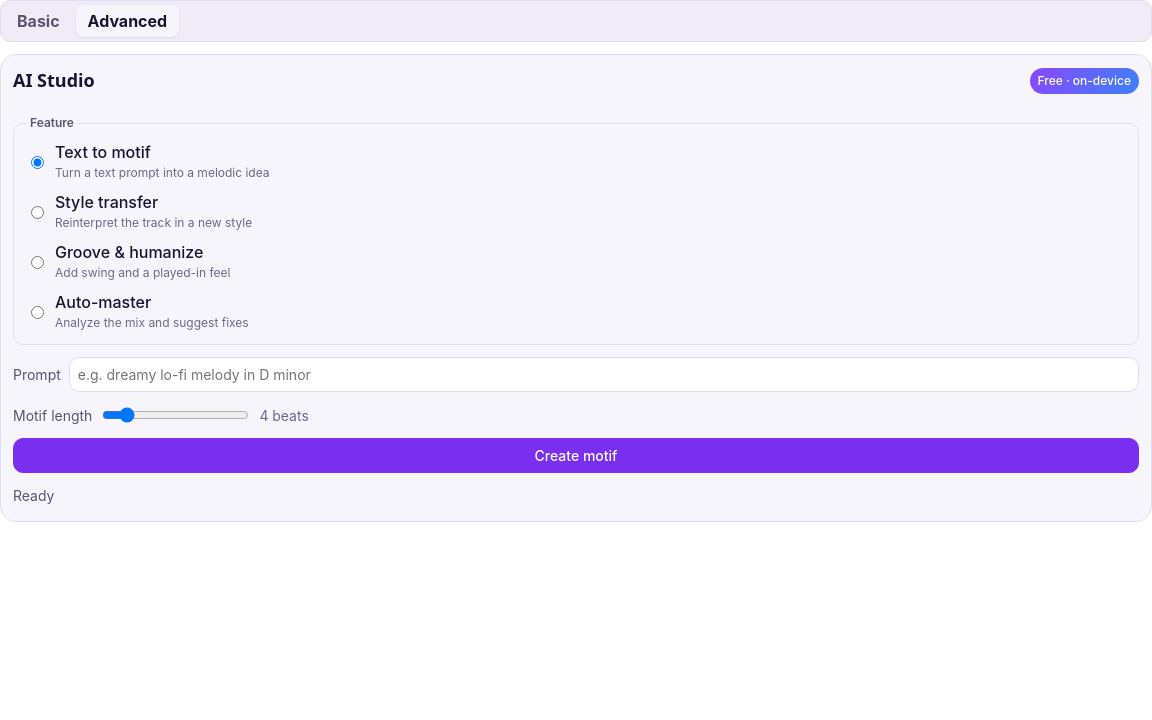
Test case: <AiInspector /> › keeps the Advanced panel mounted after returning to Basic
Click the tab "Basic" at (38, 21), box [5,5,72,37]
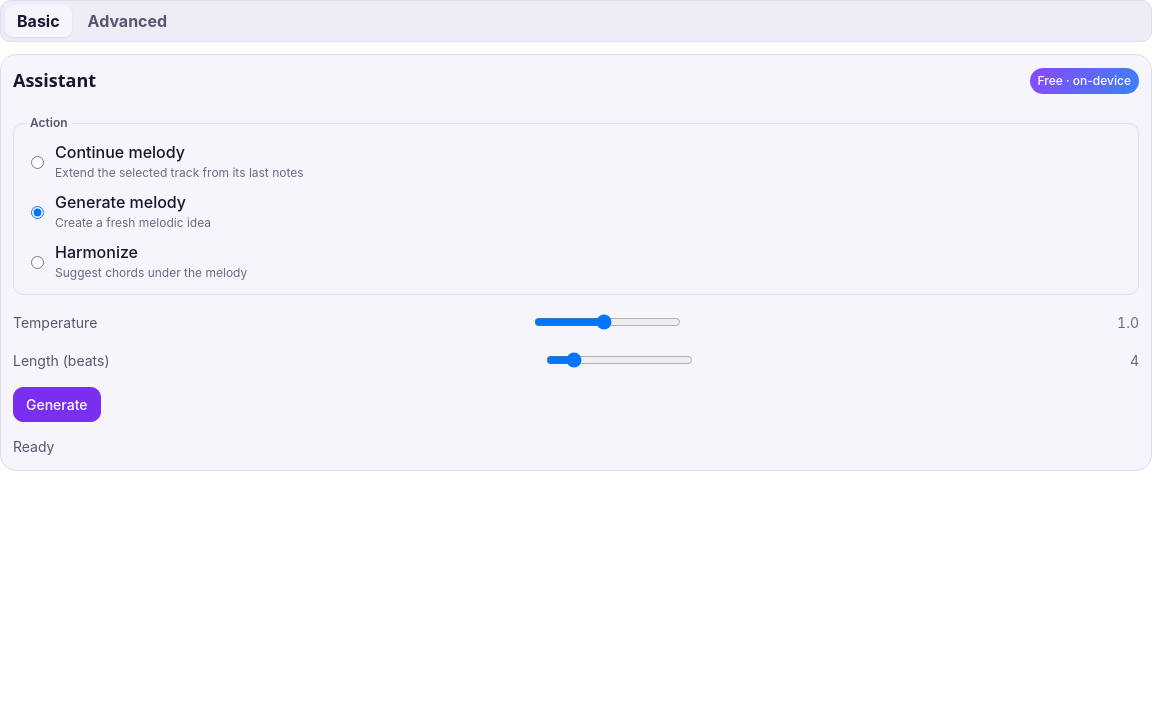
Expected: the element named "AI Assistant" is shown, [0,54,1151,471]
Expected: the heading "AI Studio" is gone
